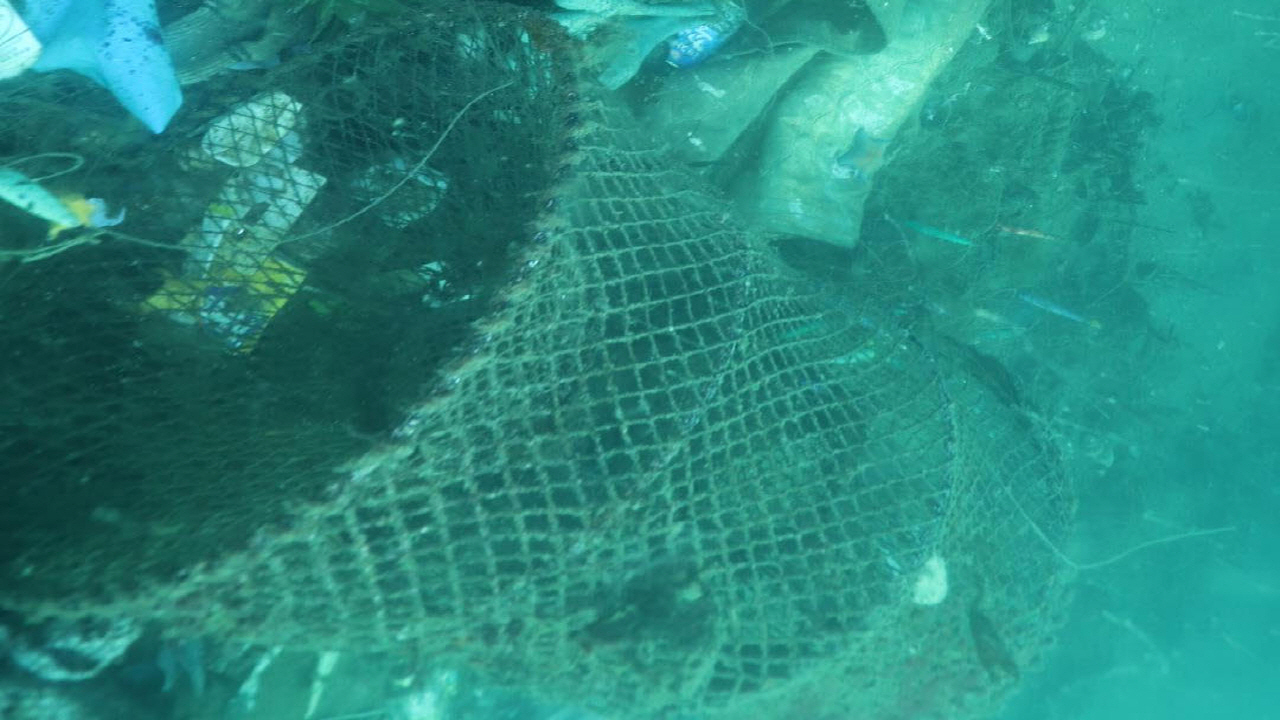spring fish trap: (0, 0, 1081, 720)
